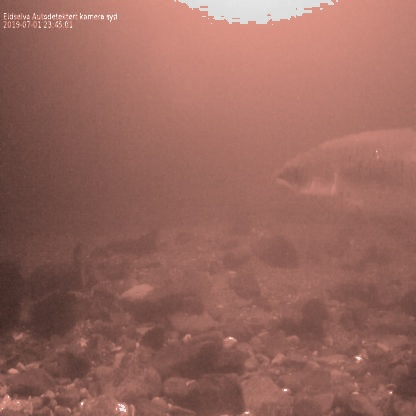salmon: (268, 121, 416, 230)
